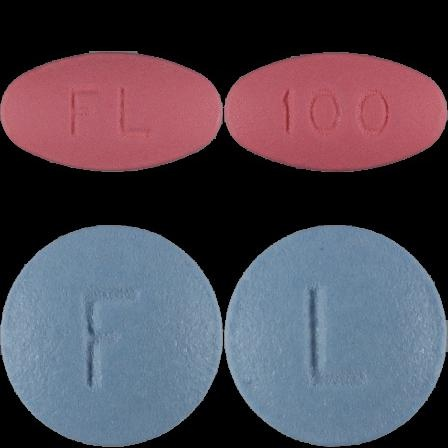0456-1510: (0, 0, 224, 224)
